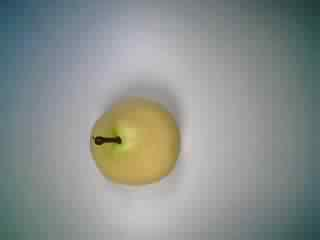pear: (77, 84, 187, 194)
